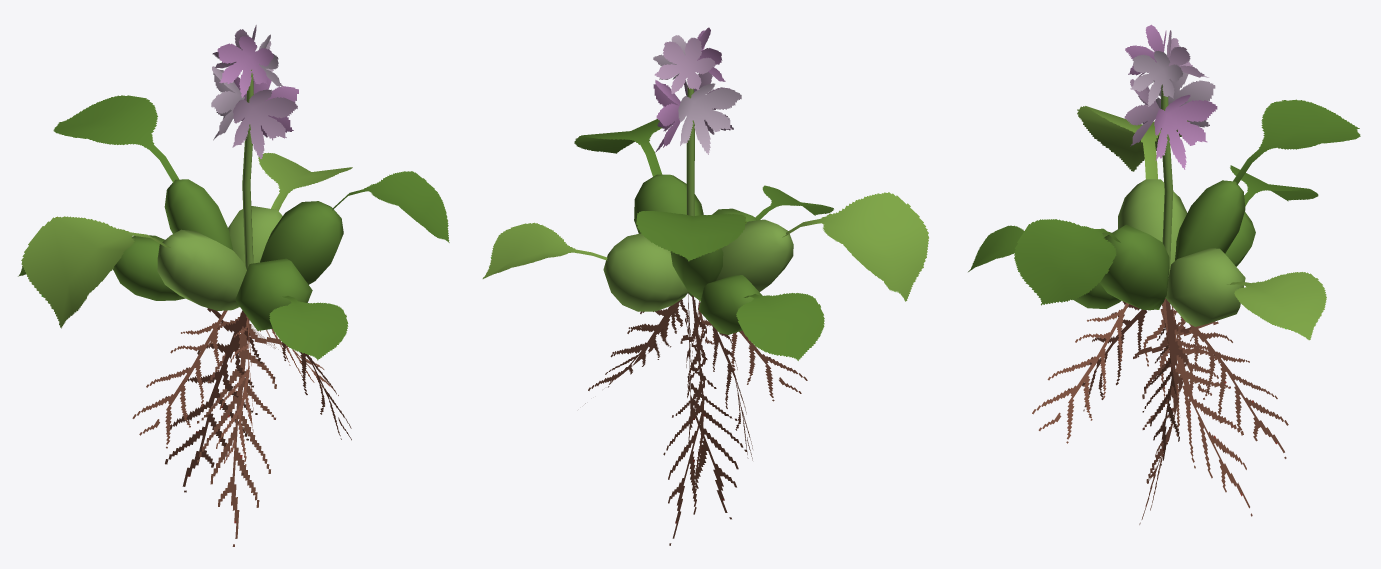
Rendered from Water_Hyacinth_2.gltf.
3 renders of one model, left to right at view 1: azimuth 30°, elevation 25°; view 2: azimuth 150°, elevation 25°; view 3: azimuth 270°, elevation 25°, orthographic. The views are drawn at different scales.
Parts seen in each view (by area): view 1: Water_Hyacinth_2; view 2: Water_Hyacinth_2; view 3: Water_Hyacinth_2.
Boxes of the visible parts, bbox=[...] form: Water_Hyacinth_2: bbox=[18, 25, 449, 546]; Water_Hyacinth_2: bbox=[482, 27, 928, 545]; Water_Hyacinth_2: bbox=[968, 24, 1360, 524].
Size of the model in its own units: 47.73 by 62.7 by 43.72.
1 material, 1 textured.
